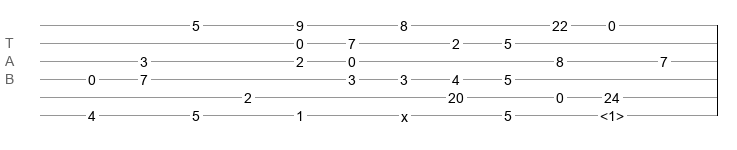0: (88, 72, 96, 82), (296, 36, 304, 46), (348, 54, 356, 64), (556, 90, 564, 100), (608, 18, 616, 28)
1: (296, 108, 304, 118)
2: (244, 90, 252, 100), (296, 54, 304, 64), (452, 36, 460, 46)
20: (448, 90, 464, 100)
22: (552, 18, 568, 28)
24: (604, 90, 620, 100)
3: (140, 54, 148, 64), (348, 72, 356, 82), (400, 72, 408, 82)
4: (88, 108, 96, 118), (452, 72, 460, 82)
5: (192, 108, 200, 118), (192, 18, 200, 28), (504, 108, 512, 118), (504, 36, 512, 46), (504, 72, 512, 82)
7: (140, 72, 148, 82), (348, 36, 356, 46), (660, 54, 668, 64)
8: (400, 18, 408, 28), (556, 54, 564, 64)
9: (296, 18, 304, 28)
harmonic: (600, 108, 624, 118)
x: (401, 109, 408, 117)
